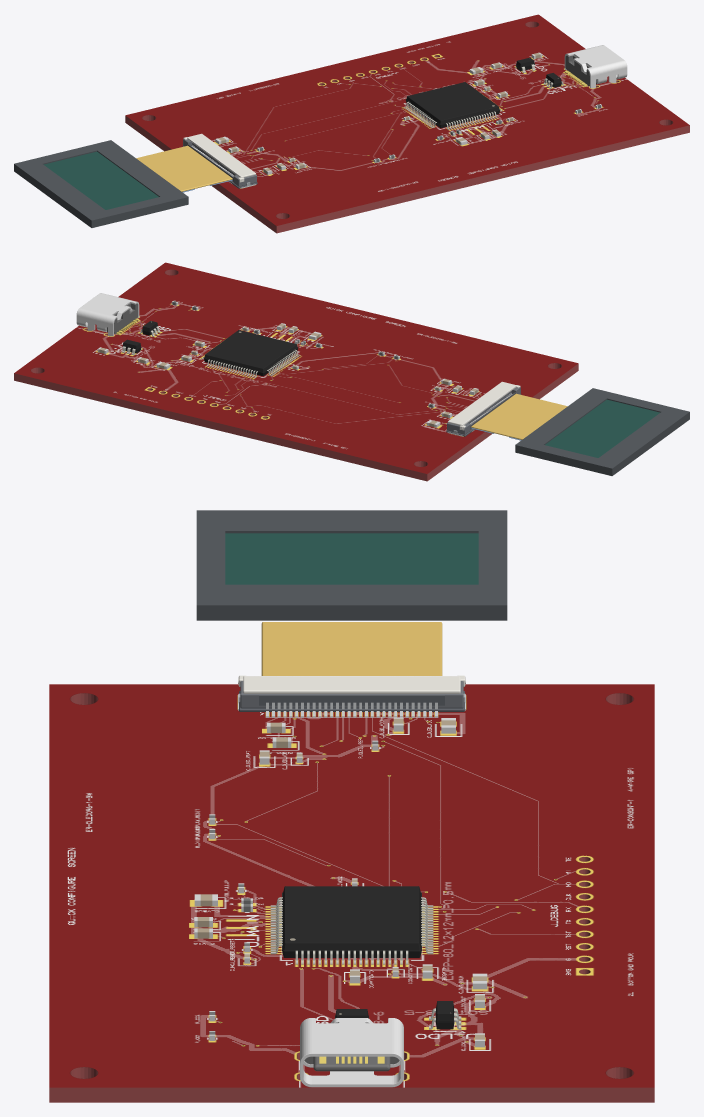
The picture shows the model from 3 angles, top to bottom: view 1: azimuth 30°, elevation 25°; view 2: azimuth 150°, elevation 25°; view 3: azimuth 270°, elevation 25°; orthographic projection. The views are drawn at different scales.
Visible parts, largest first — view 1: Box0, J_DISPLAY, U_MAIN, J_USB; view 2: Box0, J_DISPLAY, U_MAIN, J_USB; view 3: Box0, J_DISPLAY, U_MAIN, J_USB.
Boxes of the visible parts, bbox=[...] form: Box0: bbox=[125, 14, 689, 233]; J_DISPLAY: bbox=[14, 133, 257, 227]; U_MAIN: bbox=[403, 82, 502, 129]; J_USB: bbox=[564, 45, 627, 88]; Box0: bbox=[14, 262, 578, 481]; J_DISPLAY: bbox=[446, 381, 689, 475]; U_MAIN: bbox=[201, 330, 300, 377]; J_USB: bbox=[76, 293, 139, 336]; Box0: bbox=[49, 684, 654, 1102]; J_DISPLAY: bbox=[196, 510, 507, 717]; U_MAIN: bbox=[270, 886, 433, 964]; J_USB: bbox=[300, 1018, 403, 1087].
Bounding box in the file's own units: 111 × 4.65 × 52.
25 materials, 2 textured.
